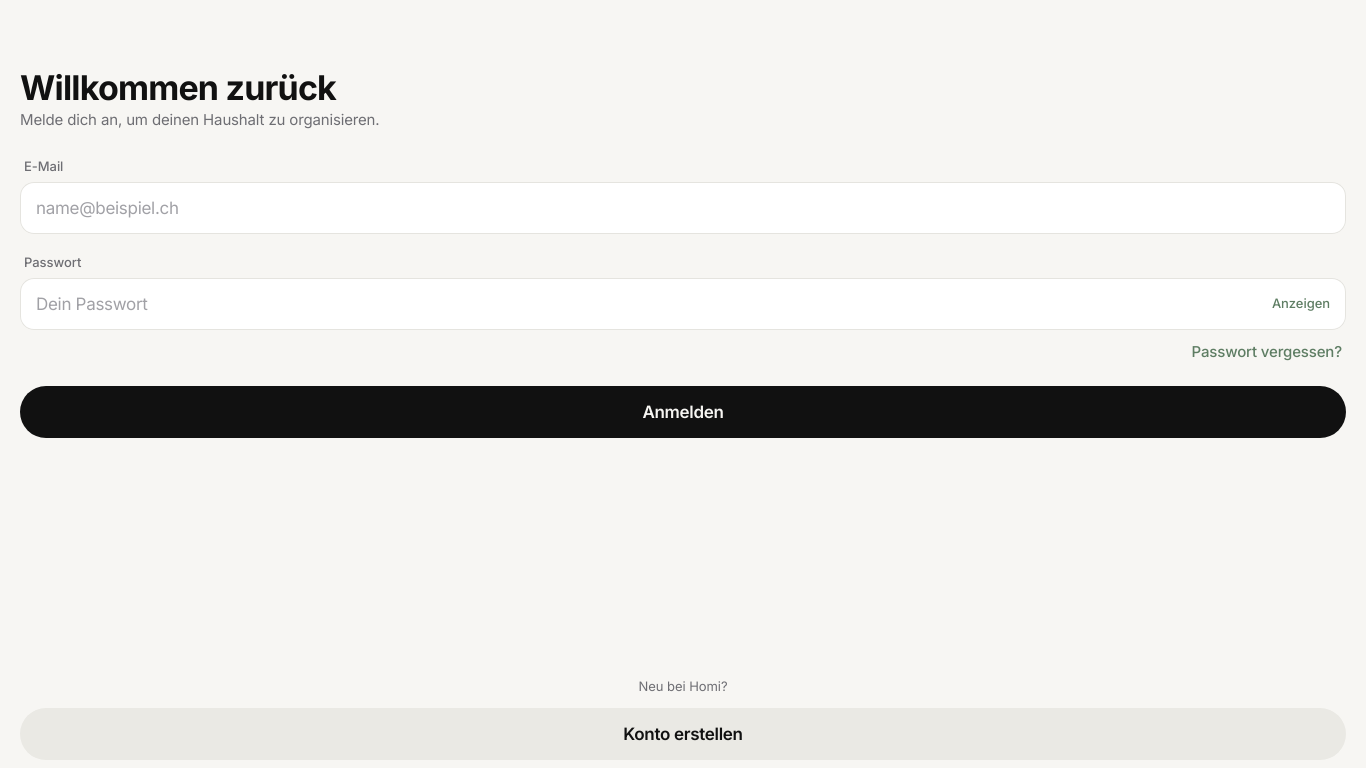
LoginForm › shows rate limiting and network problems as form messages
Type "julia@example.ch" into the field labelled "E-Mail" at (683, 208), box left=36, top=182, right=1330, bottom=234
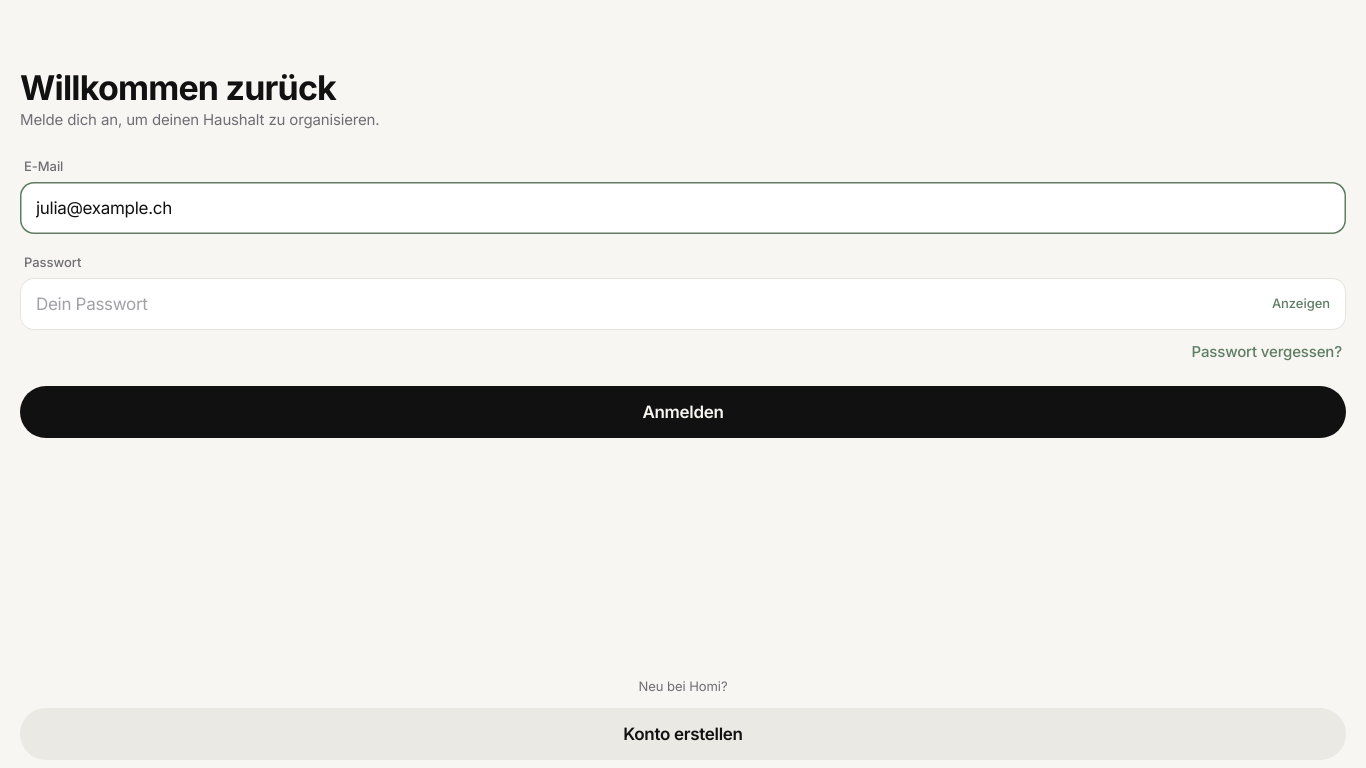
Type "Geheim-12345" into the password field labelled "Passwort" at (648, 304), box left=36, top=278, right=1260, bottom=330
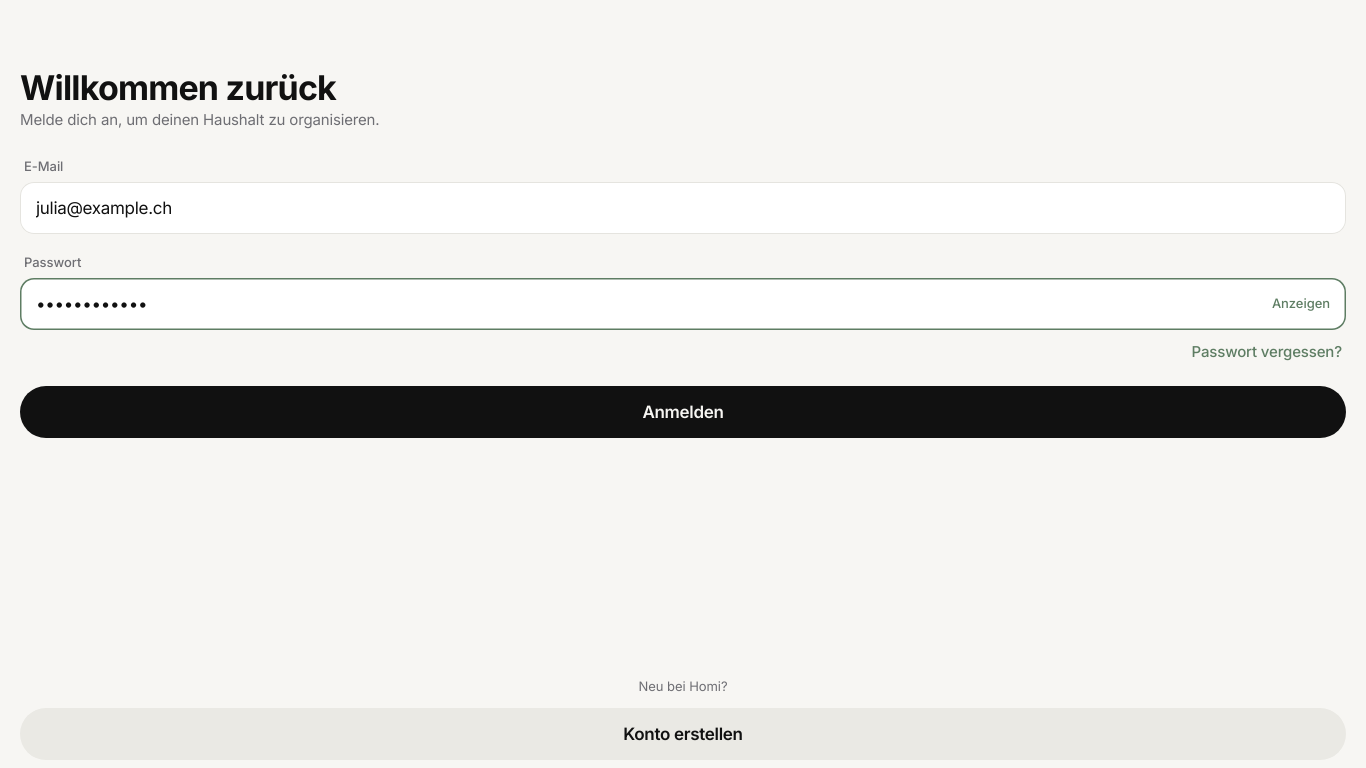
Click the button "Anmelden" at (683, 412), box left=20, top=386, right=1346, bottom=438
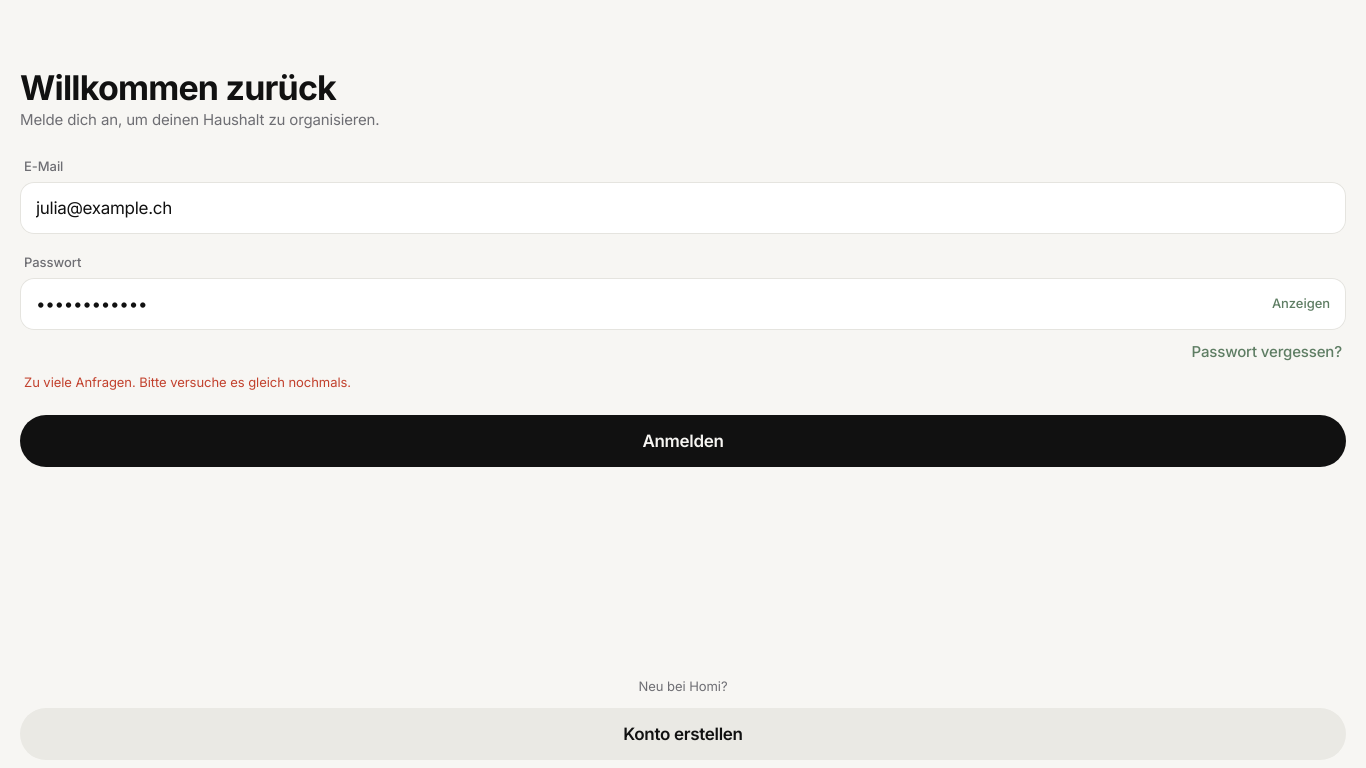
Now the message reads "Zu viele Anfragen. Bitte versuche es gleich nochmals.", box left=24, top=374, right=351, bottom=390
